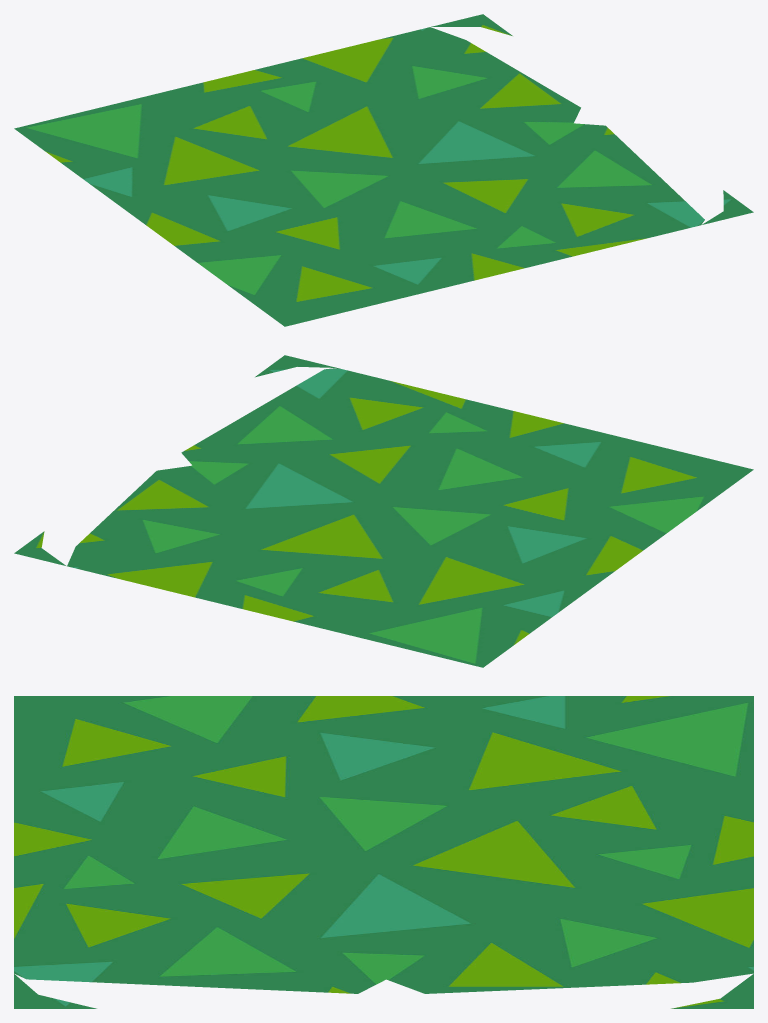
File: Grass Edge F.fbx
3 views of the same model, one above another, from view 1: azimuth 30°, elevation 25°; view 2: azimuth 150°, elevation 25°; view 3: azimuth 270°, elevation 25° (orthographic). The views are drawn at different scales.
Parts seen in each view (by area): view 1: Grass.Edge, Grass.Corner.Fill.BR, Grass.Corner.Fill.TL, Grass.Corner.Fill.BL, Grass.Corner.Fill.TR; view 2: Grass.Edge, Grass.Corner.Fill.BR, Grass.Corner.Fill.TL, Grass.Corner.Fill.BL, Grass.Corner.Fill.TR; view 3: Grass.Edge, Grass.Corner.Fill.BL, Grass.Corner.Fill.BR, Grass.Corner.Fill.TL, Grass.Corner.Fill.TR.
Boxes of the visible parts, <box> form: Grass.Edge: <box>44,27,704,313</box>; Grass.Corner.Fill.BR: <box>14,116,65,150</box>; Grass.Corner.Fill.TL: <box>702,190,753,224</box>; Grass.Corner.Fill.BL: <box>431,14,512,35</box>; Grass.Corner.Fill.TR: <box>255,305,336,326</box>; Grass.Edge: <box>67,368,726,655</box>; Grass.Corner.Fill.BR: <box>431,645,512,667</box>; Grass.Corner.Fill.TL: <box>255,355,336,377</box>; Grass.Corner.Fill.BL: <box>14,531,65,565</box>; Grass.Corner.Fill.TR: <box>702,457,753,491</box>; Grass.Edge: <box>14,696,753,993</box>; Grass.Corner.Fill.BL: <box>671,974,753,1008</box>; Grass.Corner.Fill.BR: <box>671,696,753,730</box>; Grass.Corner.Fill.TL: <box>14,974,96,1008</box>; Grass.Corner.Fill.TR: <box>14,696,96,730</box>.
Bounding box in the file's own units: 200 × 3.26e-05 × 200.
